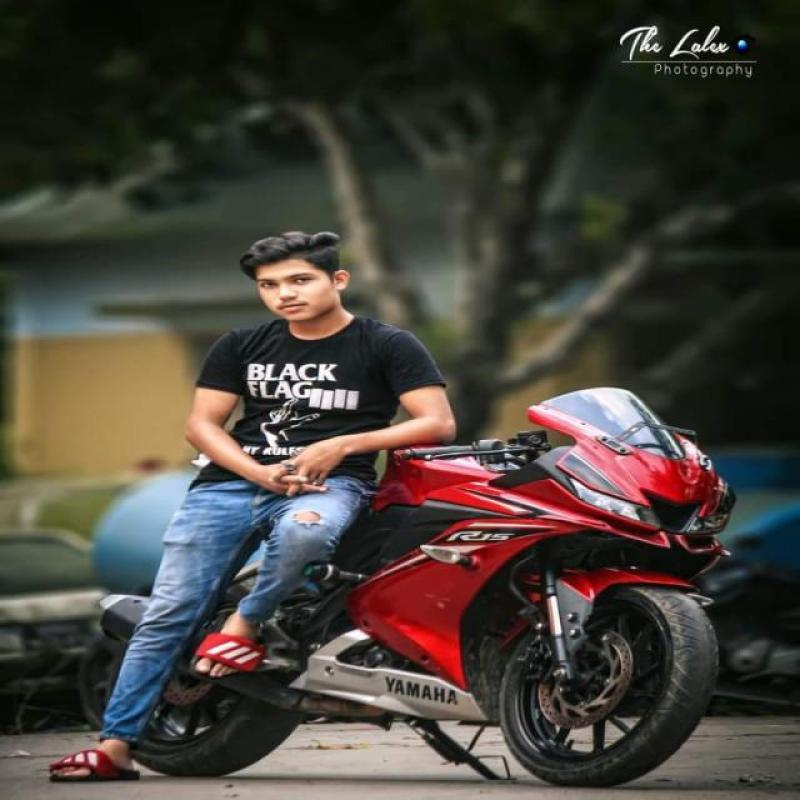nohelmet: (220, 242, 372, 336)
